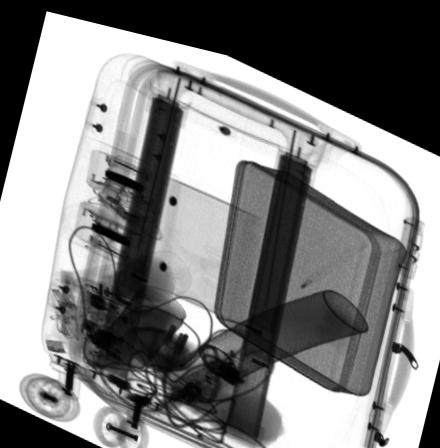Sprayer: (176, 272, 368, 380)
